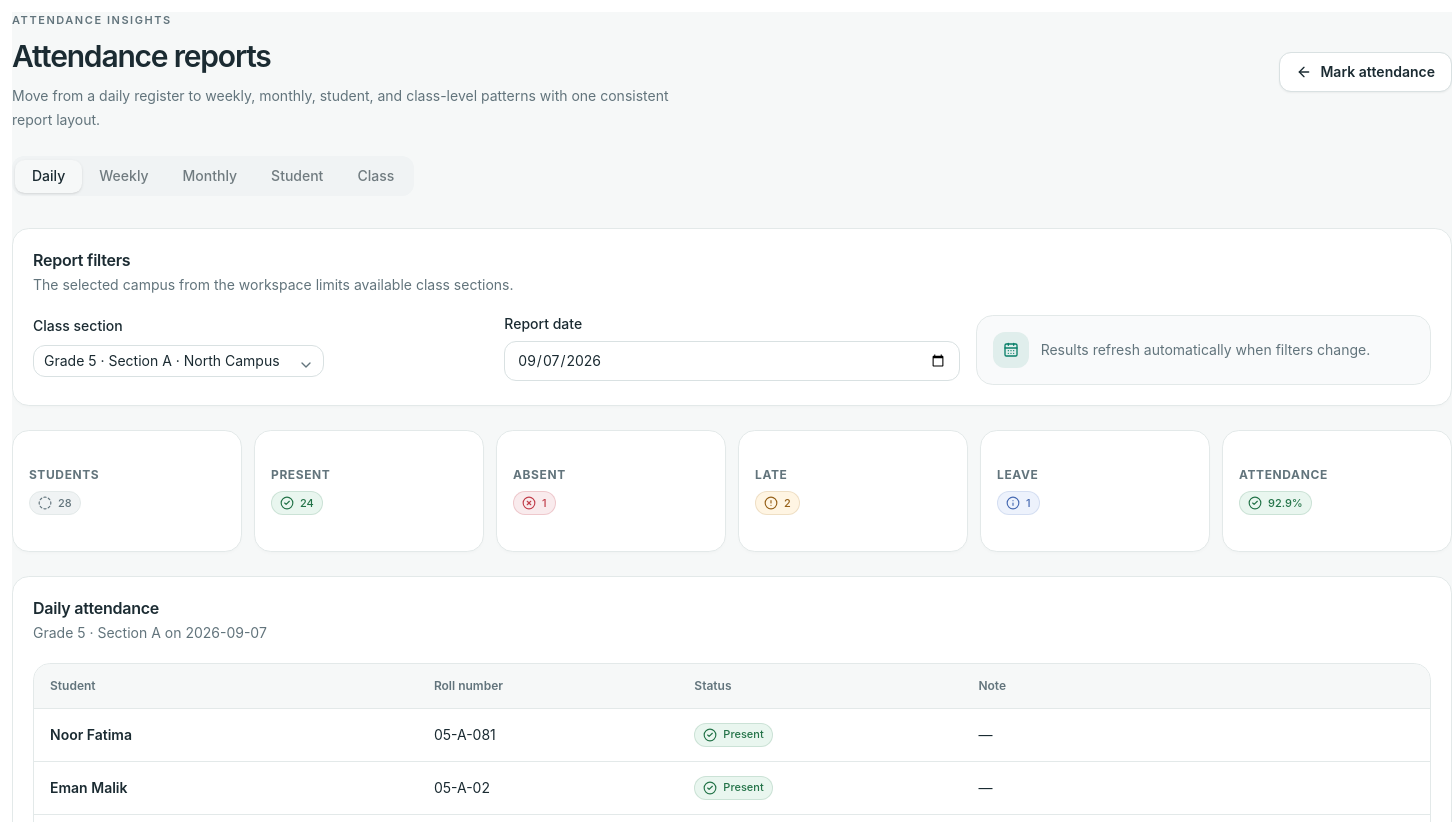
Test: AttendanceReports › switches across all five report views with shared filters and summaries
Expected: the text "Daily attendance" is shown, left=33, top=598, right=159, bottom=618
Expected: the element named "Attendance report summary" is shown, left=12, top=430, right=1451, bottom=552
Click the tab "Weekly" at (124,176), box left=82, top=160, right=166, bottom=193
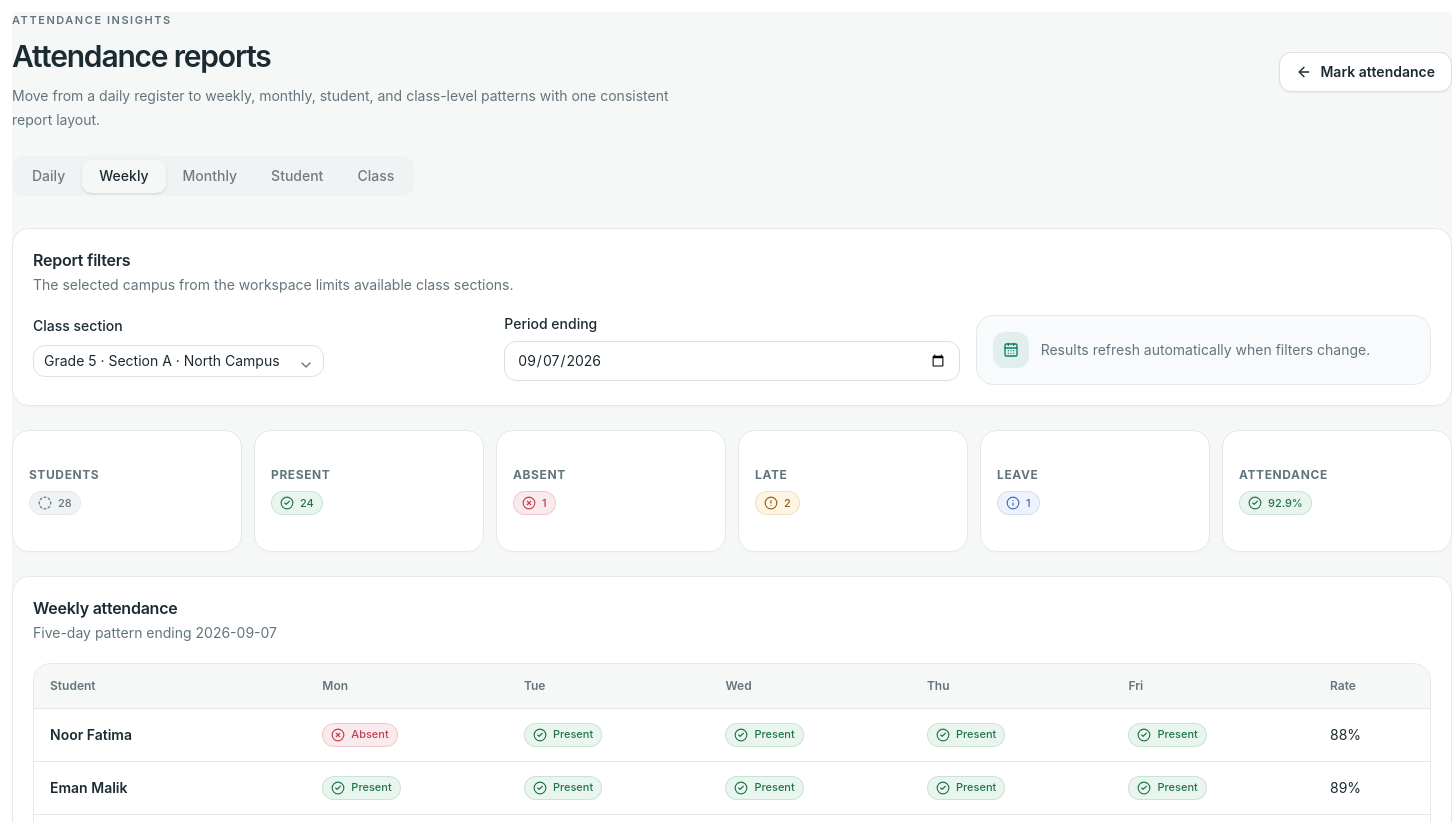
Expected: the text "Weekly attendance" is shown, left=33, top=598, right=178, bottom=618
Click the tab "Monthly" at (210,176), box left=166, top=160, right=254, bottom=193
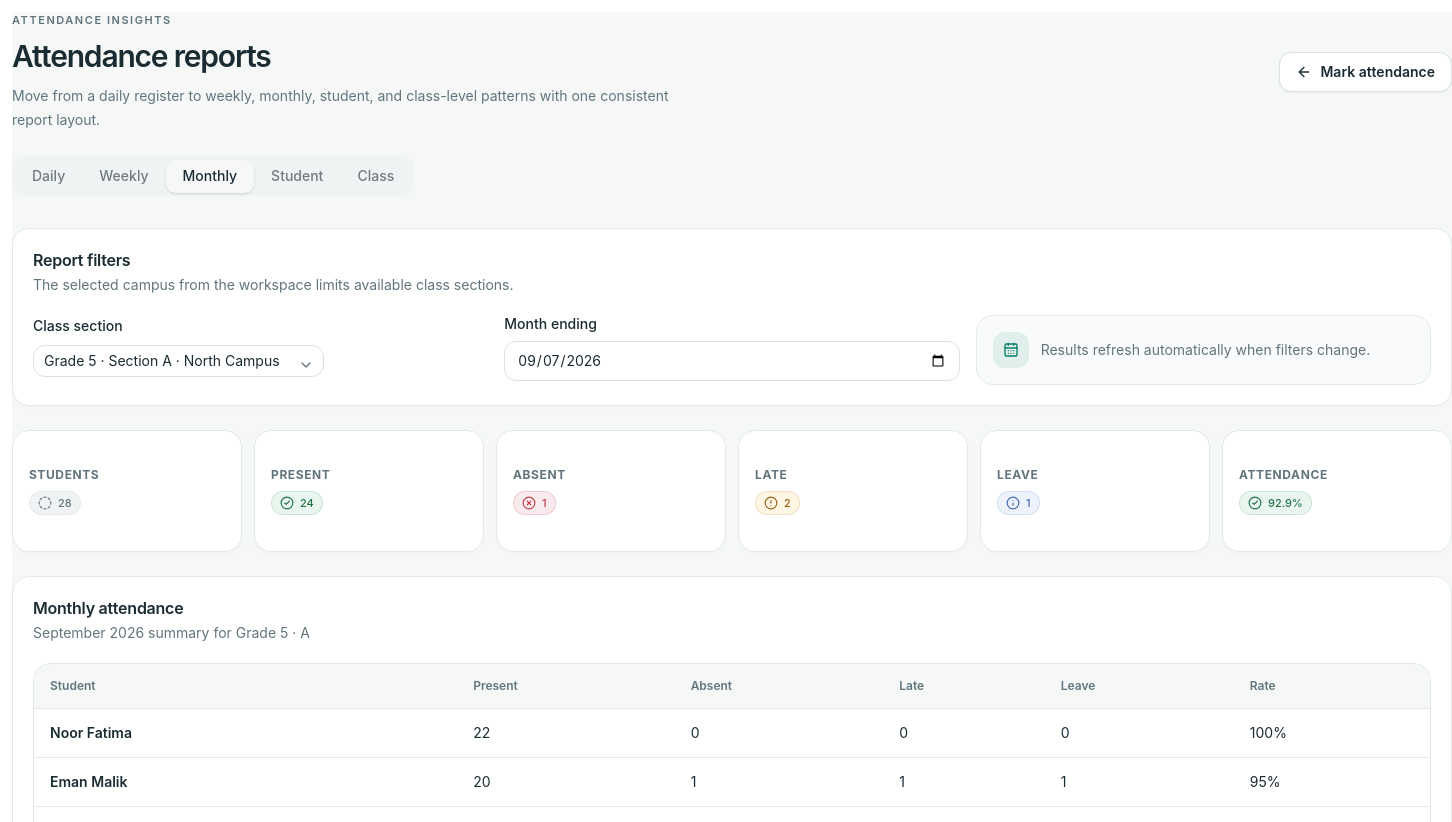
Expected: the text "Monthly attendance" is shown, left=33, top=598, right=183, bottom=618
Click the tab "Student" at (297,176), box left=254, top=160, right=340, bottom=193
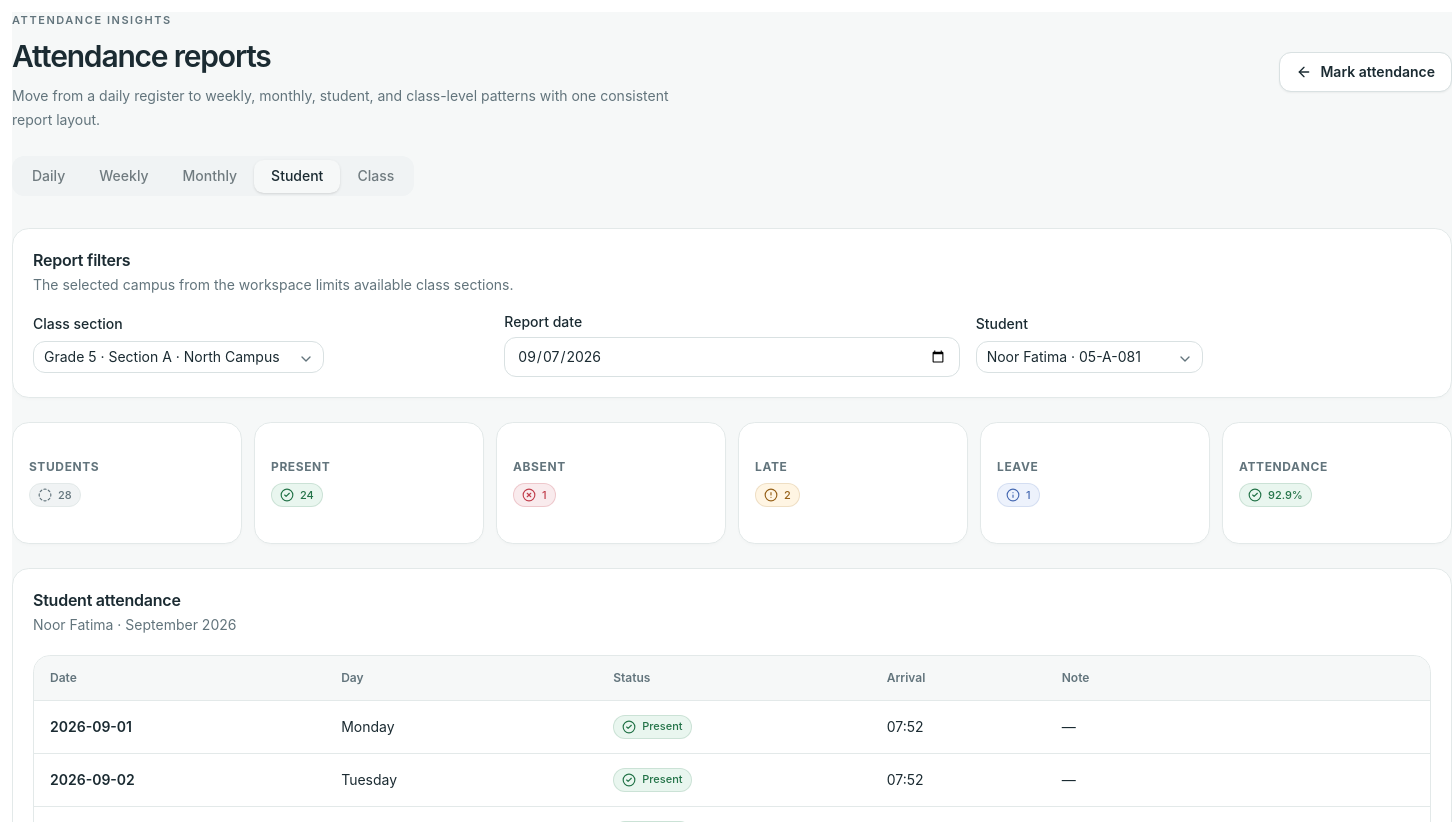
Expected: the text "Student attendance" is shown, left=33, top=590, right=181, bottom=610
Click the tab "Class" at (376,176), box left=340, top=160, right=411, bottom=193
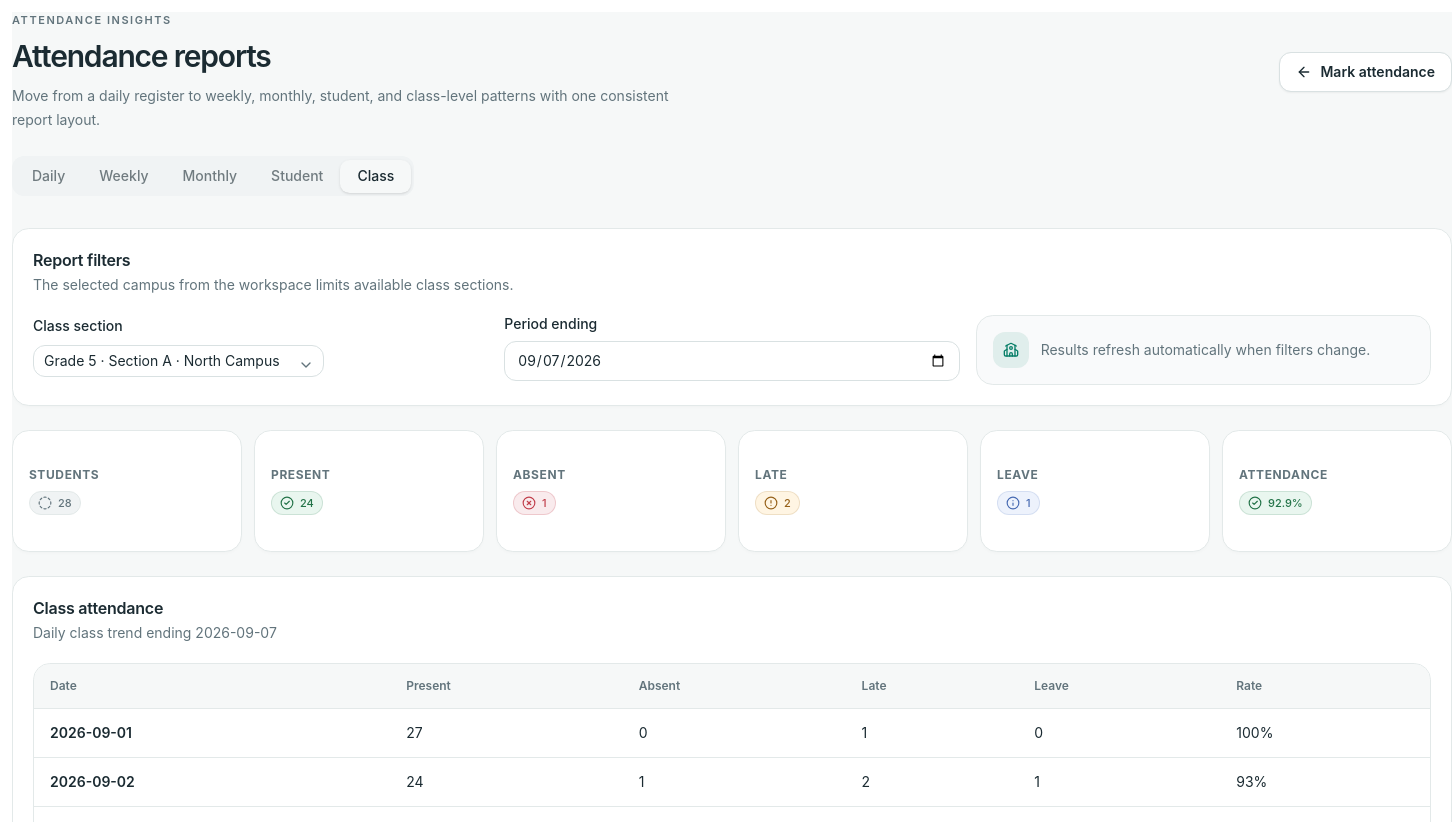
Expected: the text "Class attendance" is shown, left=33, top=598, right=163, bottom=618
Expected: the column heading "Rate" is shown, left=1220, top=664, right=1430, bottom=708
